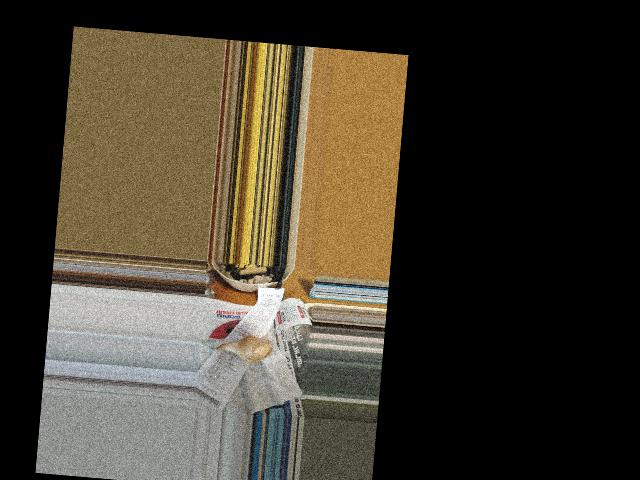onion: (228, 335, 272, 362)
